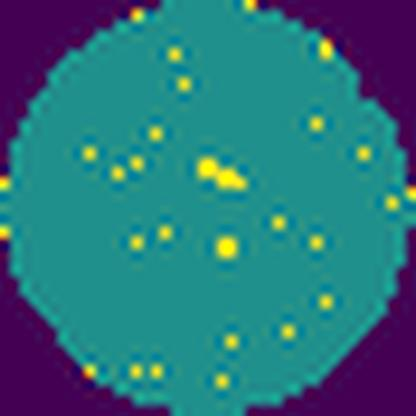Loc: (197, 154, 250, 193)
